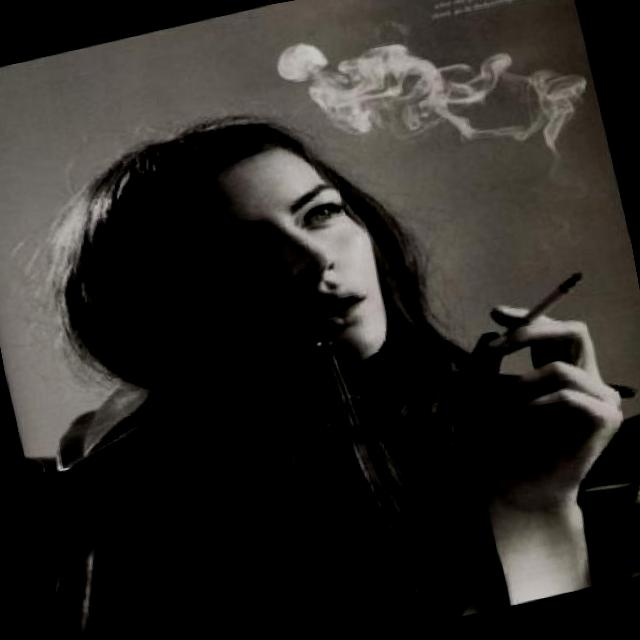smoke: (491, 266, 598, 332)
